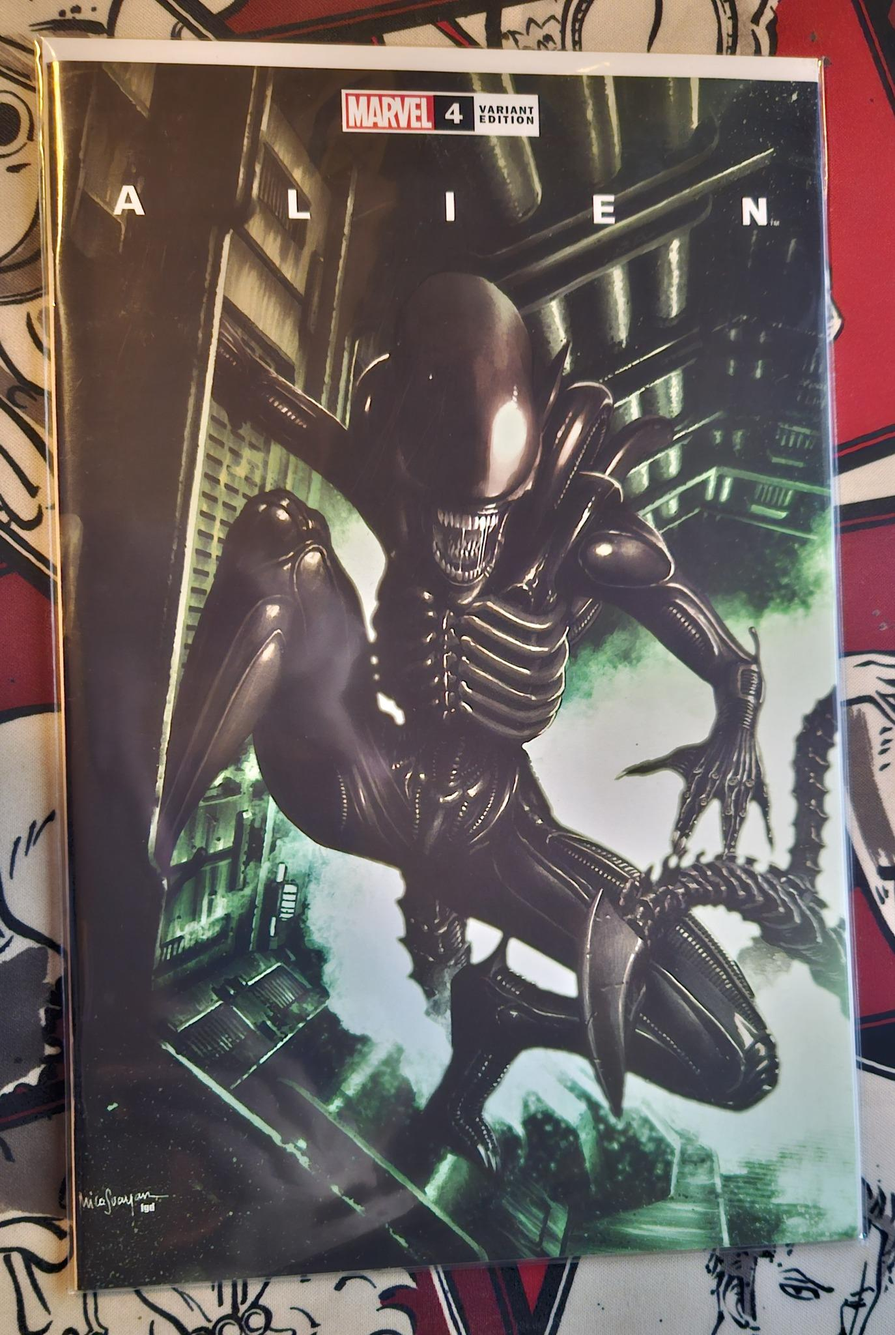comic: (41, 37, 861, 1289)
